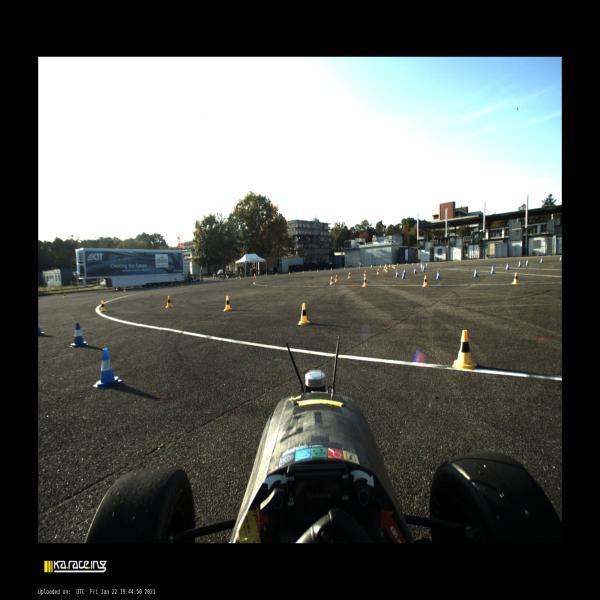blue_cone: (93, 348, 122, 388), (70, 322, 88, 348), (38, 320, 45, 335), (490, 266, 495, 274), (474, 268, 478, 277), (395, 270, 399, 278), (436, 271, 440, 279), (402, 272, 406, 279), (506, 263, 510, 270), (525, 260, 529, 266), (422, 266, 425, 272), (518, 261, 521, 267), (420, 263, 423, 269), (540, 258, 543, 263), (404, 269, 406, 275), (559, 257, 562, 261), (414, 268, 416, 273), (97, 289, 99, 294), (423, 265, 425, 270), (412, 262, 414, 266), (417, 262, 419, 266), (426, 263, 428, 266), (324, 268, 326, 271), (236, 276, 238, 279), (406, 263, 407, 266), (171, 283, 172, 286), (341, 267, 342, 269), (357, 266, 358, 268), (293, 271, 294, 273), (310, 270, 311, 272), (218, 279, 219, 281), (264, 274, 265, 276), (199, 281, 200, 283), (398, 263, 398, 266), (372, 264, 372, 267), (142, 286, 142, 289), (278, 272, 278, 274)
large_orange_cone: (254, 273, 255, 277), (266, 273, 267, 276)
yellow_cone: (452, 330, 477, 371), (297, 303, 310, 325), (223, 296, 232, 312), (166, 296, 173, 308), (512, 272, 519, 284), (100, 300, 106, 311), (422, 276, 428, 286), (362, 277, 367, 287), (335, 274, 338, 282), (330, 276, 333, 284), (348, 272, 351, 279), (364, 270, 366, 276), (64, 292, 66, 298), (123, 288, 126, 292), (377, 269, 379, 274), (384, 266, 386, 270), (386, 268, 388, 272), (394, 265, 396, 269), (302, 270, 304, 274), (159, 284, 161, 288), (222, 278, 224, 282), (385, 264, 387, 268), (330, 268, 332, 271), (370, 265, 372, 268), (239, 277, 241, 280), (344, 266, 345, 270), (182, 282, 183, 286), (380, 264, 381, 268), (389, 264, 390, 267), (255, 275, 256, 278), (393, 265, 394, 268), (392, 264, 393, 267), (289, 272, 290, 274), (359, 266, 360, 268), (203, 281, 204, 283), (276, 273, 276, 276), (318, 269, 318, 272)
